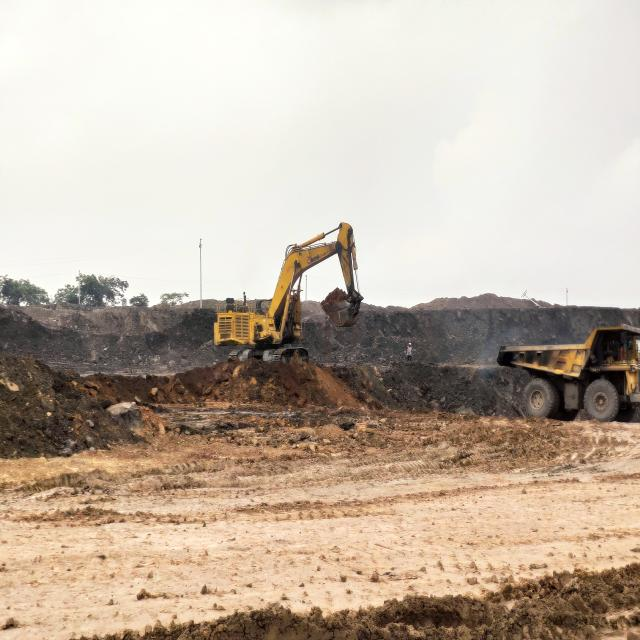dump_truck: (498, 327, 640, 424)
excavator: (212, 220, 367, 366)
